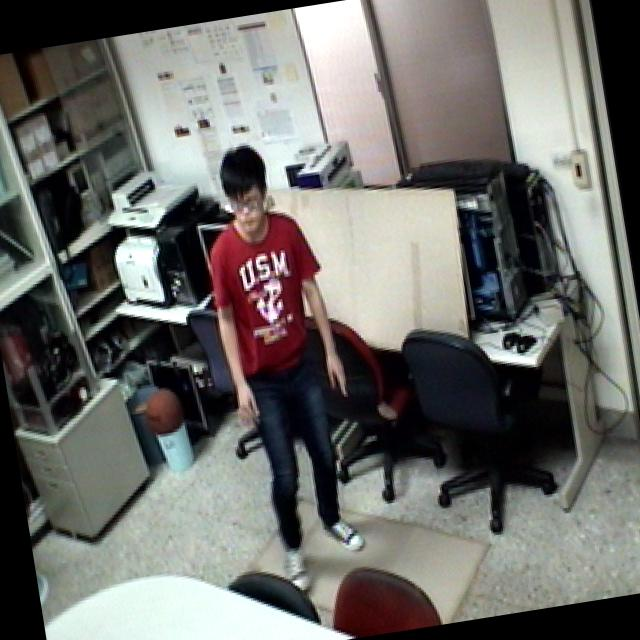stand: (186, 129, 391, 602)
